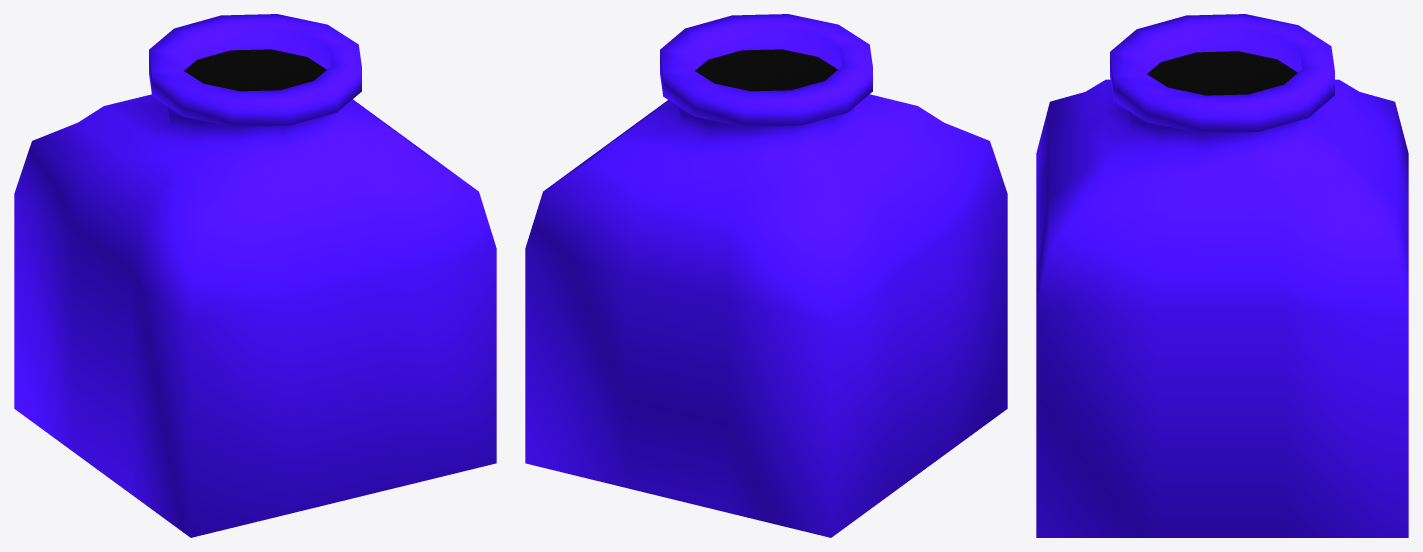
File: QuillAndInk.003.glb
3 views of the same model, side by side, from view 1: azimuth 30°, elevation 25°; view 2: azimuth 150°, elevation 25°; view 3: azimuth 270°, elevation 25° (orthographic). The views are drawn at different scales.
Parts seen in each view (by area): view 1: QuillAndInk.003; view 2: QuillAndInk.003; view 3: QuillAndInk.003.
Boxes of the visible parts, <box> form: QuillAndInk.003: <box>14,14,496,537</box>; QuillAndInk.003: <box>525,14,1007,537</box>; QuillAndInk.003: <box>1036,14,1408,537</box>.
Bounding box in the file's own units: 0.0669 × 0.0788 × 0.0669.
Materials: 1 (1 with a texture image).
